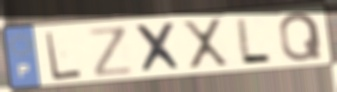L: (44, 30, 84, 82), (234, 16, 275, 64)
Q: (277, 10, 325, 63)
X: (132, 20, 187, 75), (179, 16, 232, 72)
Z: (86, 24, 136, 79)
